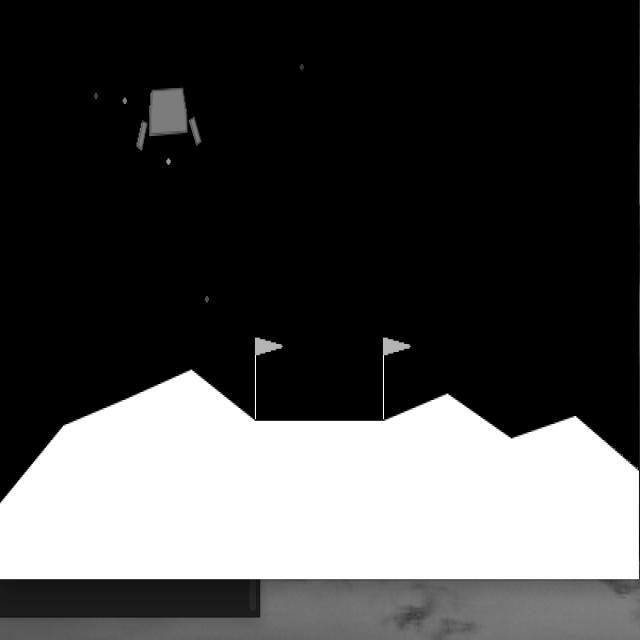lander: (135, 88, 203, 148)
landing_point: (254, 336, 387, 422)
